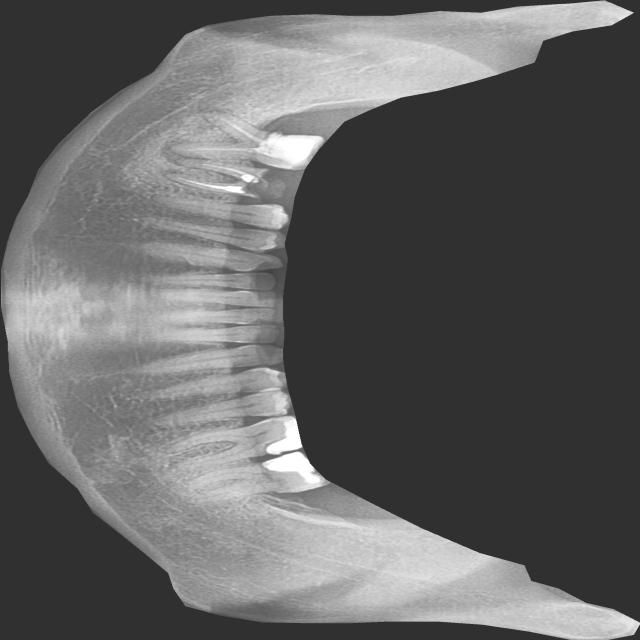mandibula: (0, 0, 640, 640)
